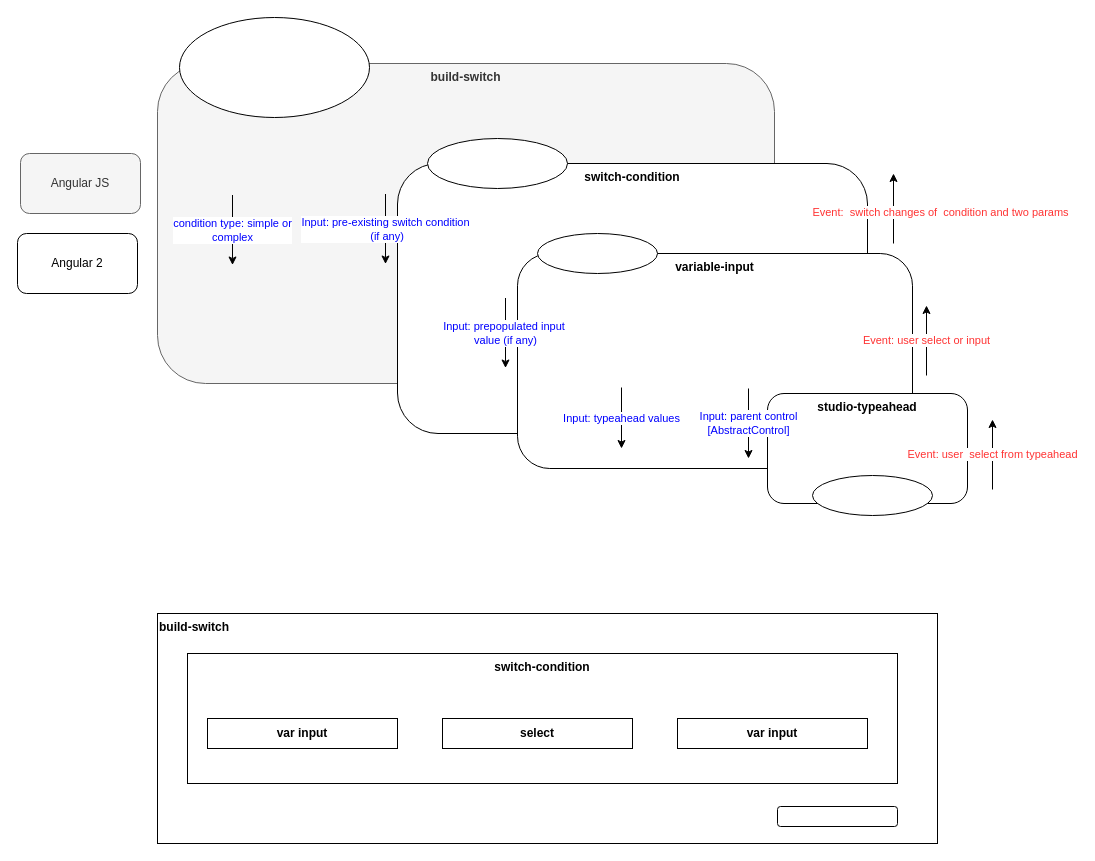
Image size: 1095x861. Some labels were removed from this diagram. Here are the shapes that lost their labels. From the top down, the centre of each, then its label:
At pixel 274 67: "Grouping of switch-conds (technically not an Angular form, native HTML form)".
At pixel 497 163: "FormGroup (of two var-inputs)".
At pixel 597 253: "FormGroup (of one input)".
At pixel 872 495: "AbstractControl".
At pixel 837 816: "BUILD [Button]".
